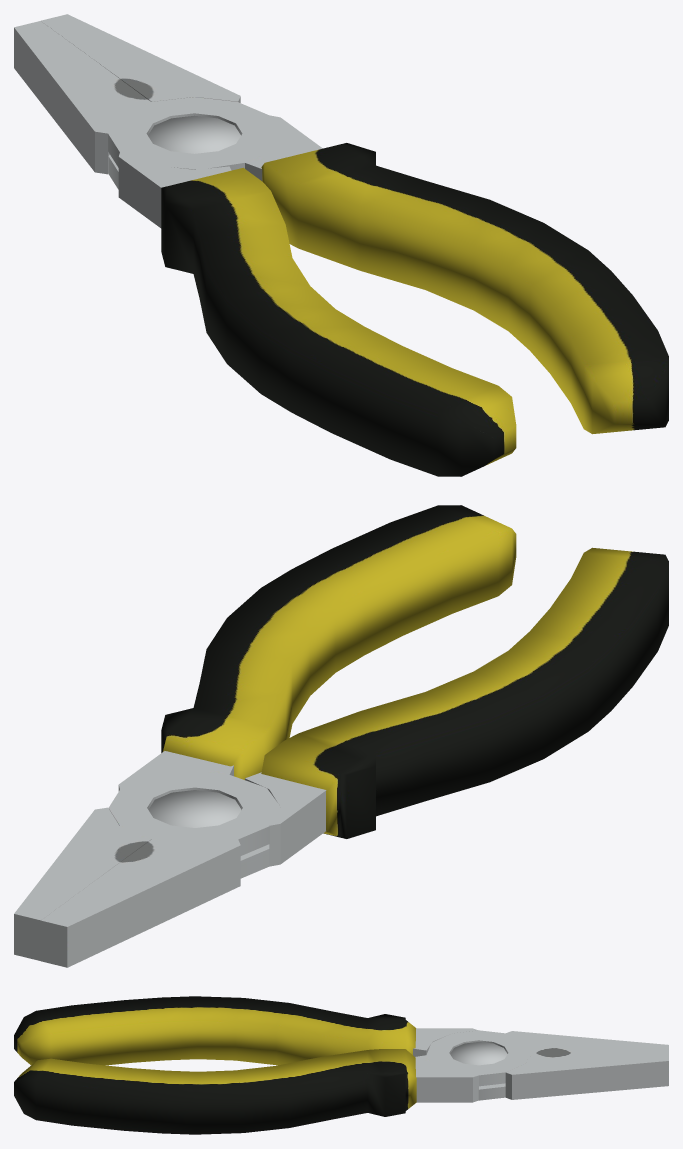
The model's file is 平口钳.fbx.
3 renders of one model, top to bottom at view 1: azimuth 30°, elevation 25°; view 2: azimuth 150°, elevation 25°; view 3: azimuth 270°, elevation 25°, orthographic. The views are drawn at different scales.
Parts seen in each view (by area): view 1: pingkouqian:polySurface3, pingkouqian:polySurface4, pingkouqian:pCylinder1; view 2: pingkouqian:polySurface3, pingkouqian:polySurface4, pingkouqian:pCylinder1; view 3: pingkouqian:polySurface3, pingkouqian:polySurface4, pingkouqian:pCylinder1.
Part boxes in pixels (box(x1,y1,x2,y2)): pingkouqian:polySurface3: box(14, 21, 668, 434); pingkouqian:polySurface4: box(41, 14, 516, 476); pingkouqian:pCylinder1: box(148, 115, 240, 153); pingkouqian:polySurface3: box(40, 505, 516, 967); pingkouqian:polySurface4: box(14, 547, 668, 960); pingkouqian:pCylinder1: box(148, 790, 241, 827); pingkouqian:polySurface3: box(14, 1030, 668, 1134); pingkouqian:polySurface4: box(14, 996, 668, 1100); pingkouqian:pCylinder1: box(450, 1042, 507, 1065).
Bounding box in the file's own units: 7.23 × 1.36 × 20.28.
1 material, 1 textured.
